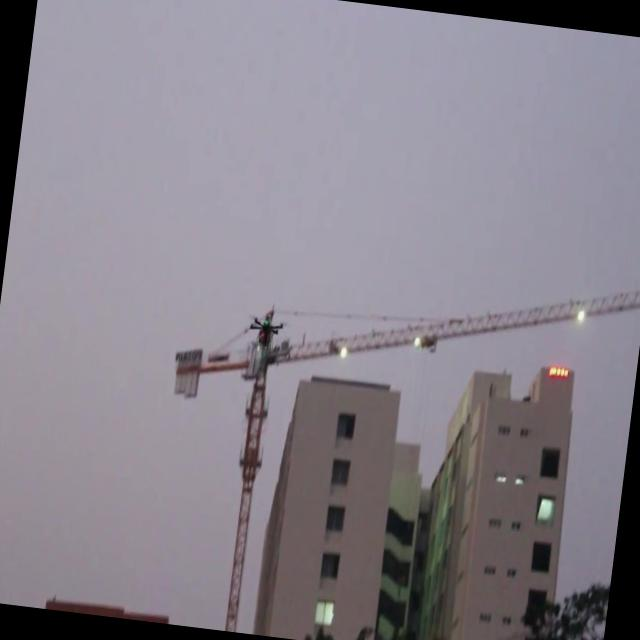drone: (243, 312, 286, 354)
